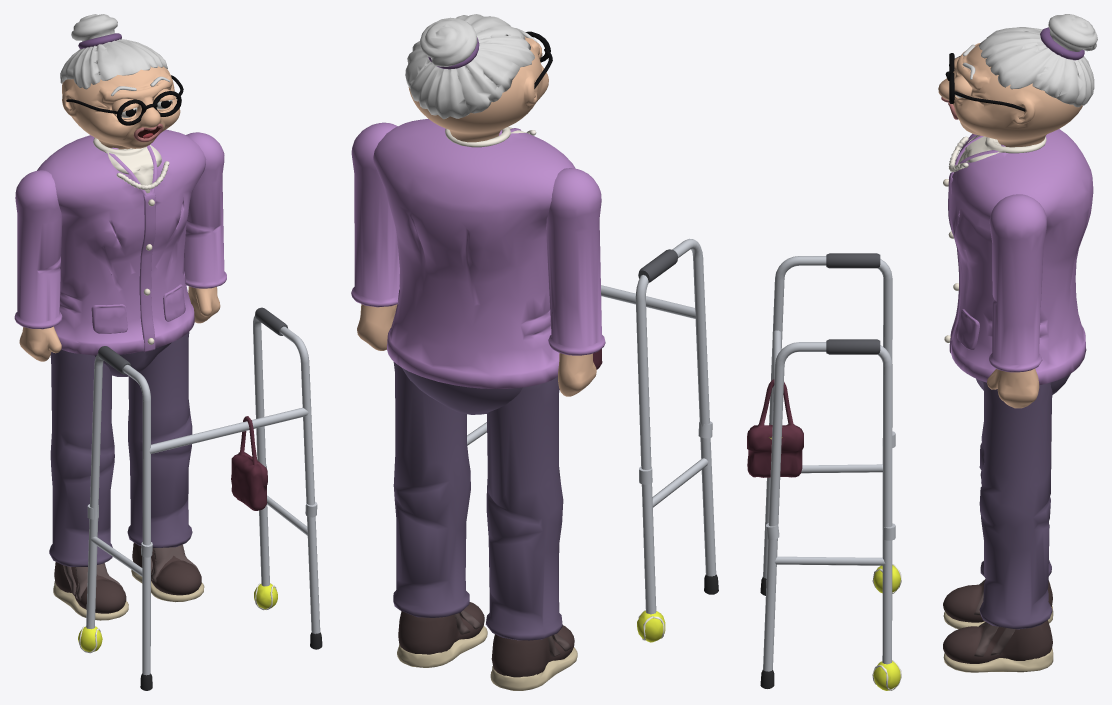
Rendered from granny.glb.
3 views of the same model, side by side, from view 1: azimuth 30°, elevation 25°; view 2: azimuth 150°, elevation 25°; view 3: azimuth 270°, elevation 25° (orthographic). The views are drawn at different scales.
Visible parts, largest first — view 1: Body_Mesh, Walker, LegR_Mesh, LegL_Mesh, Head_Mesh, ArmR_Mesh, ArmL_Mesh, CardiganTrim, Blouse; view 2: Body_Mesh, LegR_Mesh, LegL_Mesh, Head_Mesh, Walker, ArmR_Mesh, ArmL_Mesh; view 3: LegL_Mesh, Body_Mesh, Walker, Head_Mesh, ArmL_Mesh, LegR_Mesh, CardiganTrim, Blouse.
Boxes of the visible parts, box(x1,y1,x2,y2) form: Body_Mesh: box(37, 129, 206, 376); Walker: box(78, 307, 322, 690); LegR_Mesh: box(49, 349, 128, 620); LegL_Mesh: box(127, 332, 204, 602); Head_Mesh: box(60, 14, 183, 149); ArmR_Mesh: box(14, 170, 62, 361); ArmL_Mesh: box(184, 132, 226, 323); CardiganTrim: box(91, 192, 185, 351); Blouse: box(93, 138, 161, 193); Body_Mesh: box(373, 118, 575, 414); LegR_Mesh: box(485, 377, 577, 690); LegL_Mesh: box(393, 362, 487, 667); Head_Mesh: box(405, 14, 552, 142); Walker: box(467, 238, 718, 642); ArmR_Mesh: box(546, 168, 605, 396); ArmL_Mesh: box(351, 122, 399, 350); LegL_Mesh: box(943, 381, 1053, 672); Body_Mesh: box(950, 129, 1093, 394); Walker: box(747, 253, 901, 690); Head_Mesh: box(938, 14, 1097, 147); ArmL_Mesh: box(987, 194, 1046, 408); LegR_Mesh: box(943, 392, 1053, 629); CardiganTrim: box(948, 172, 979, 353); Blouse: box(957, 135, 1046, 164).
Bounding box in the file's own units: 0.6045 × 1.56 × 0.7924.
